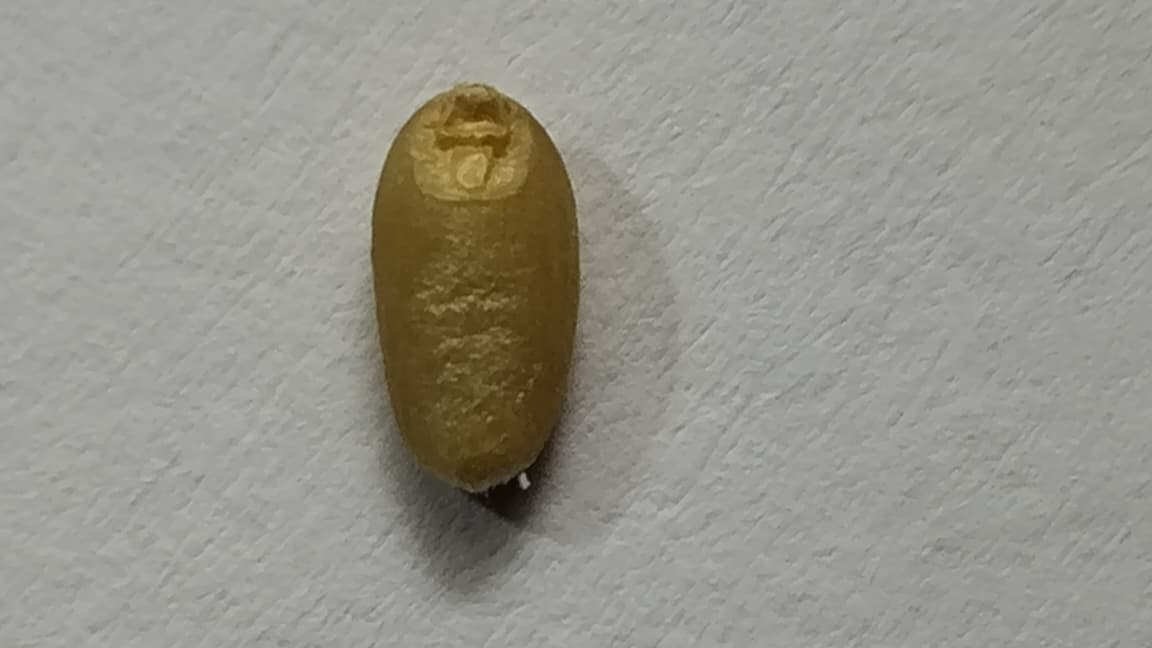healthy: (371, 85, 579, 491)
